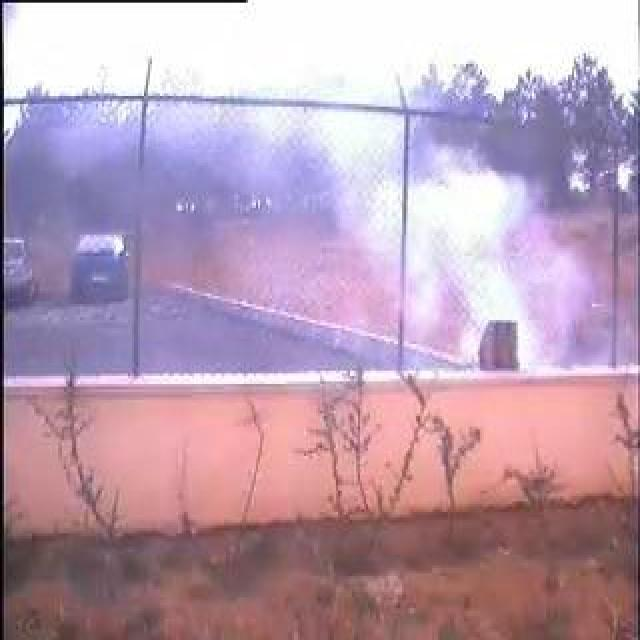Smoke: (295, 96, 565, 373)
